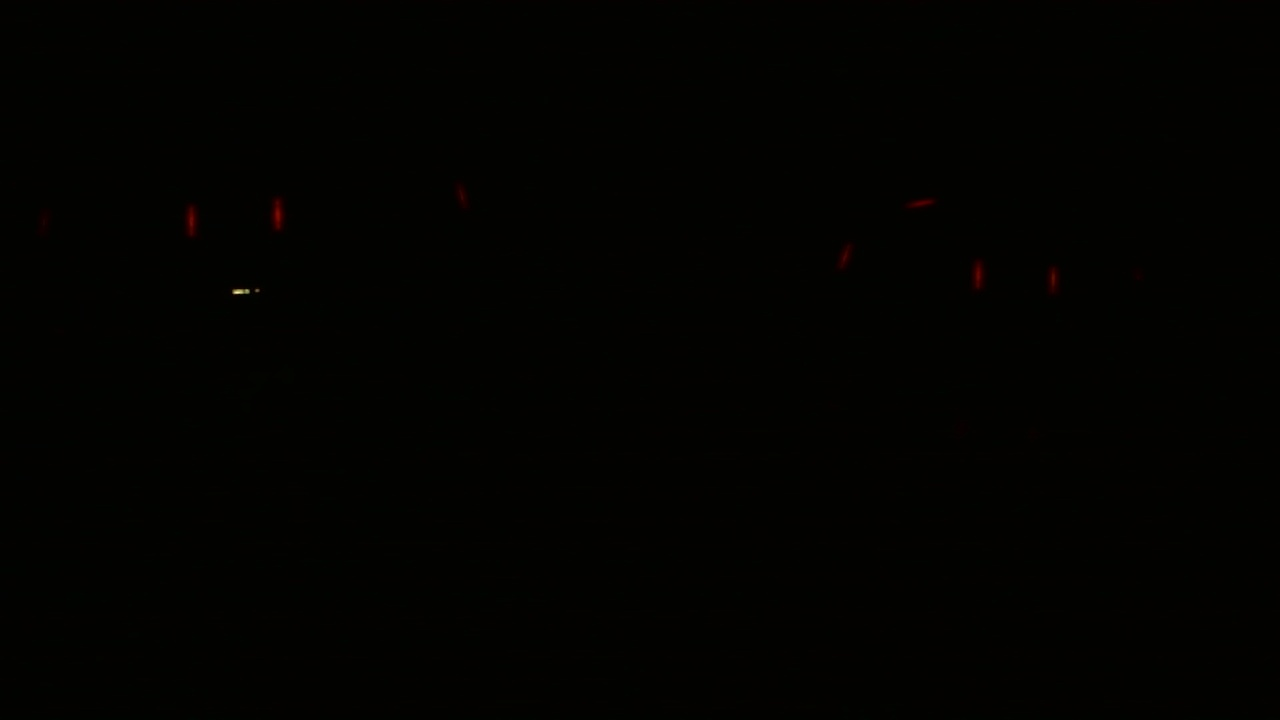pair1: (184, 198, 280, 237), (963, 261, 1064, 288)
